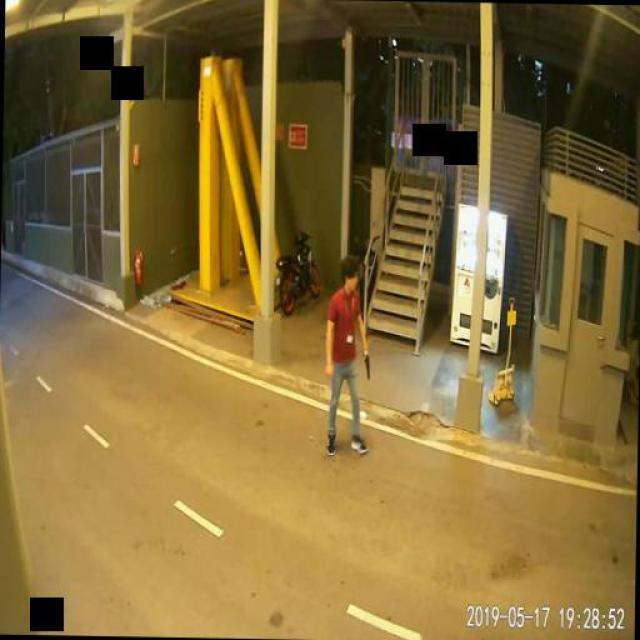gun: (362, 352, 370, 378)
